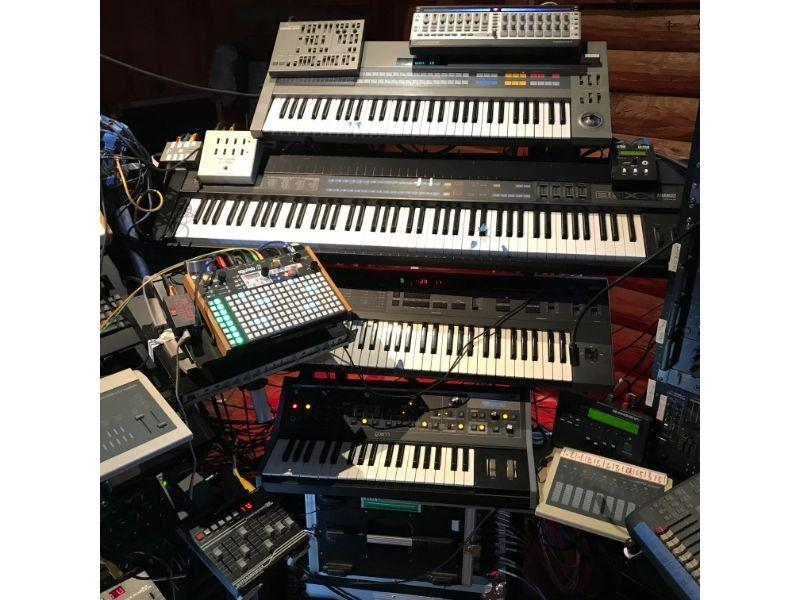synthesizer: (155, 152, 652, 261), (251, 26, 608, 139), (253, 388, 543, 493), (355, 283, 607, 382)
